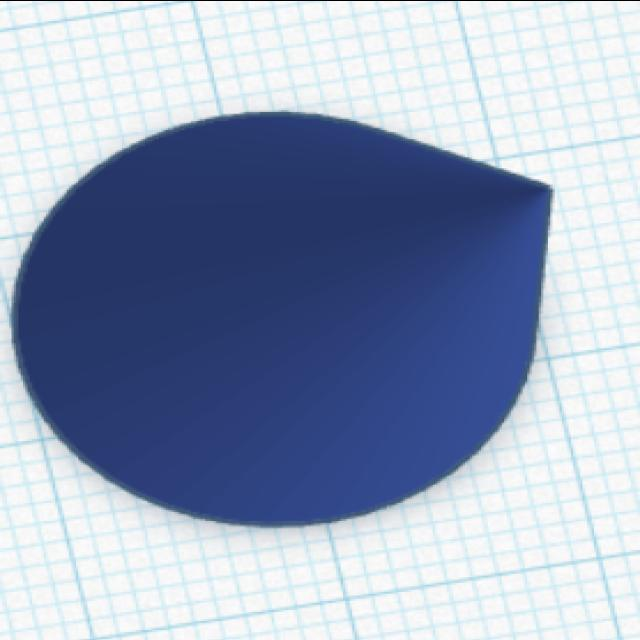cone: (4, 106, 558, 532)
